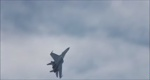maybay_muctieu: (47, 49, 71, 78)
